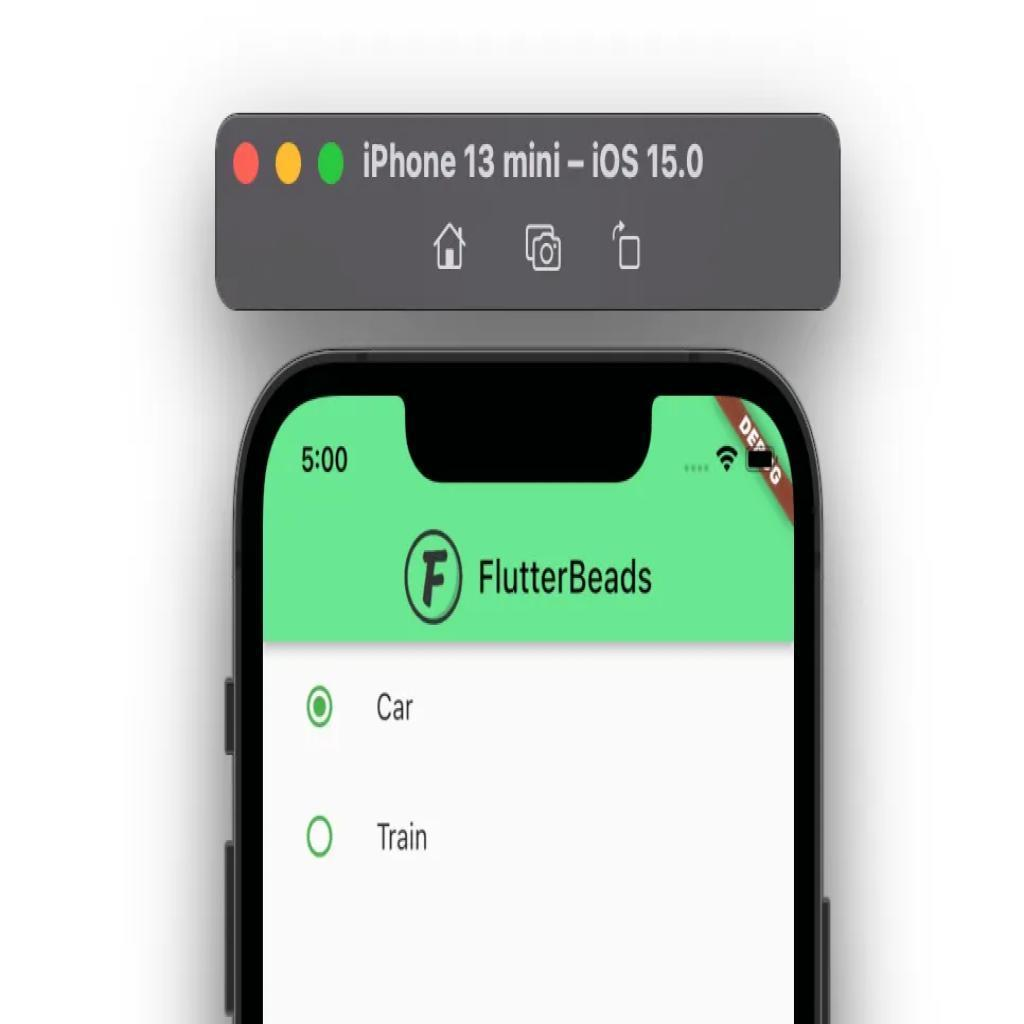label: (375, 817, 429, 857), (375, 685, 418, 731)
radio: (305, 683, 338, 732), (305, 812, 334, 863)
